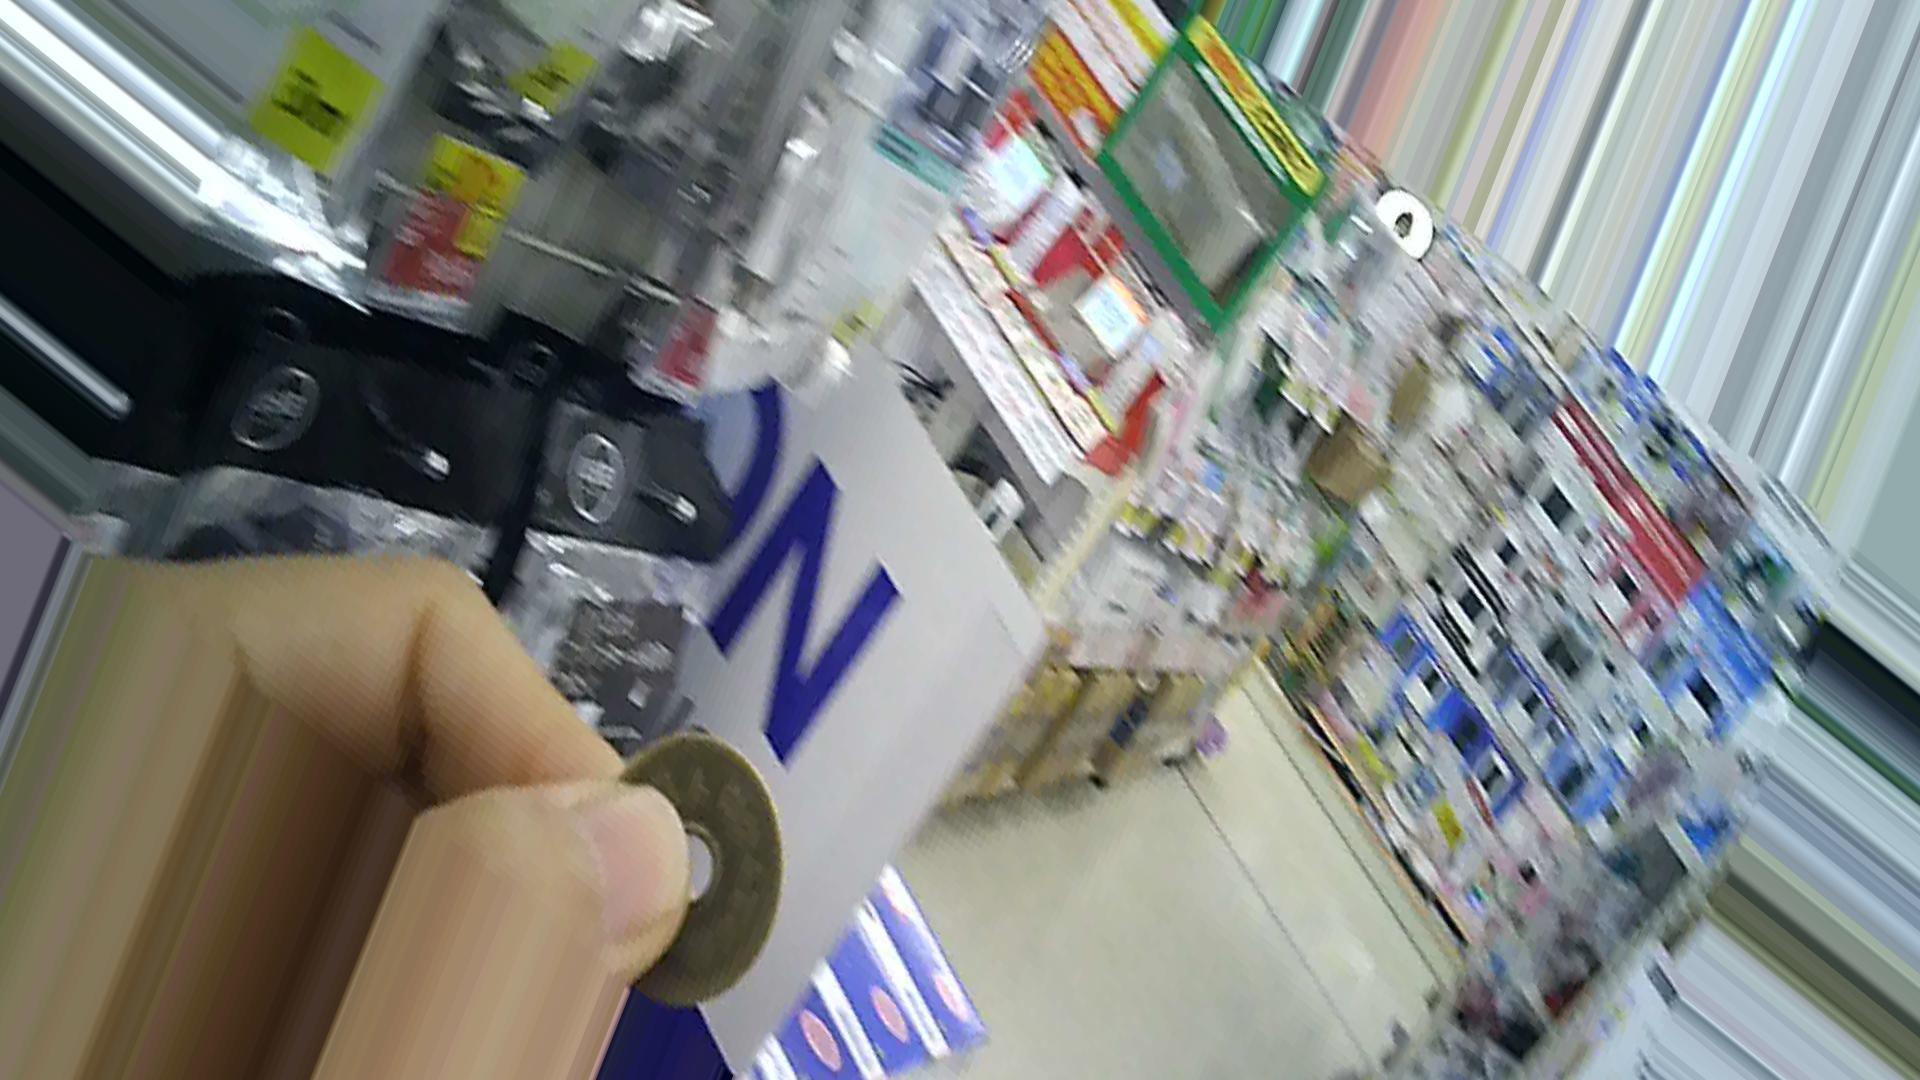5 Yen: (593, 735, 793, 980)
